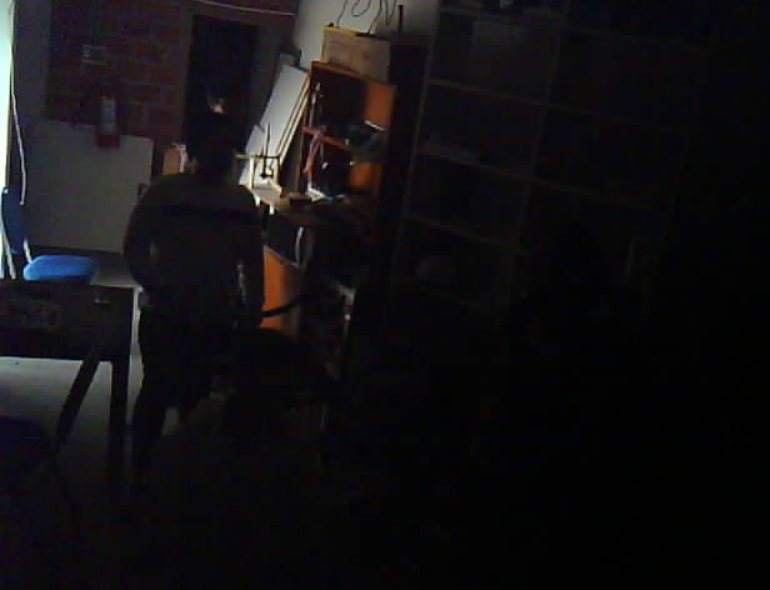person: (113, 94, 277, 544)
